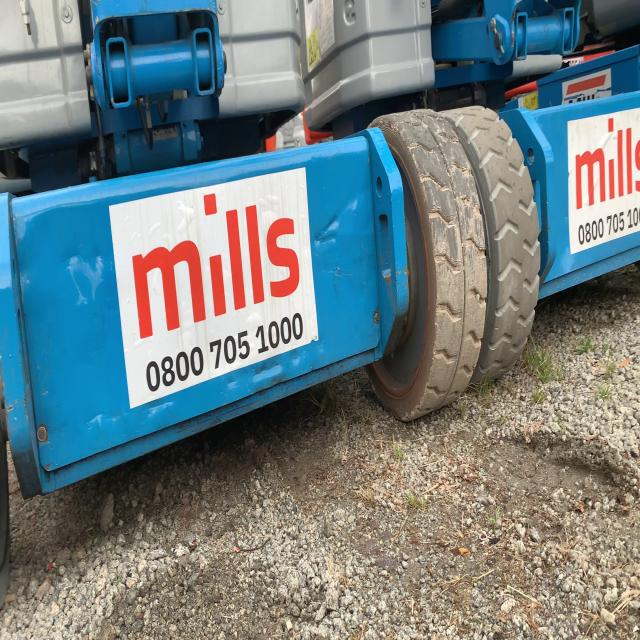Adesivos: (106, 161, 320, 415)
